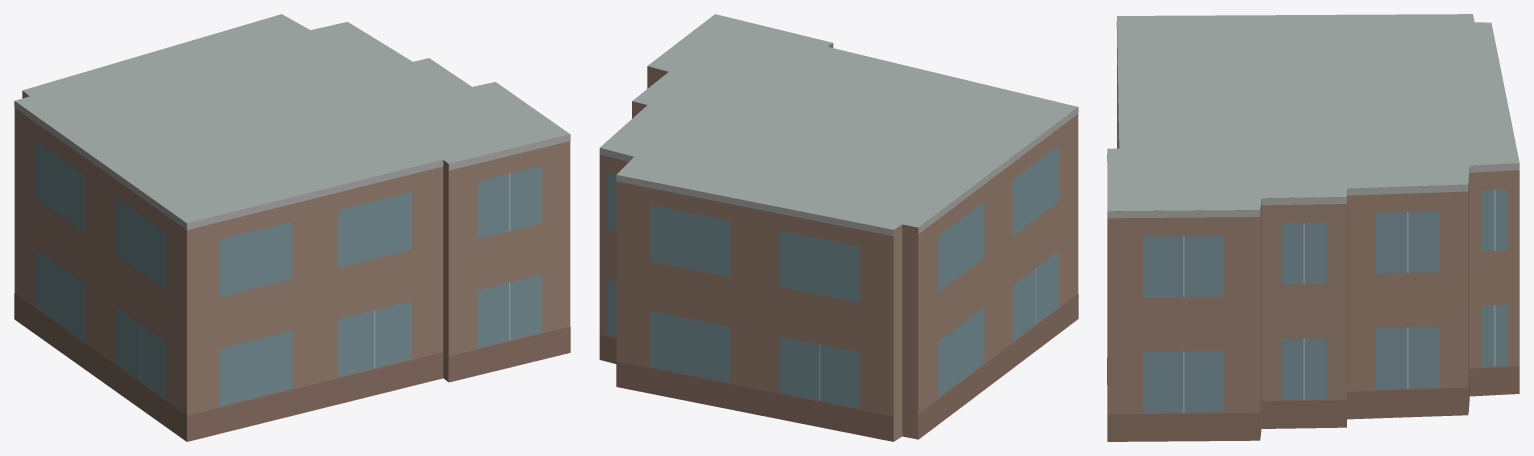
Rendered from survey-upis-32900993.glb.
The picture shows the model from 3 angles, left to right: view 1: azimuth 30°, elevation 25°; view 2: azimuth 150°, elevation 25°; view 3: azimuth 270°, elevation 25°; orthographic projection. The views are drawn at different scales.
Parts seen in each view (by area): view 1: survey-upis-32900993.tmp; view 2: survey-upis-32900993.tmp; view 3: survey-upis-32900993.tmp.
Part boxes in pixels (box(x1,y1,x2,y2)): survey-upis-32900993.tmp: box(14, 14, 570, 441); survey-upis-32900993.tmp: box(599, 14, 1078, 441); survey-upis-32900993.tmp: box(1107, 14, 1519, 441).
Bounding box in the file's own units: 14.49 × 7.9 × 12.81.
